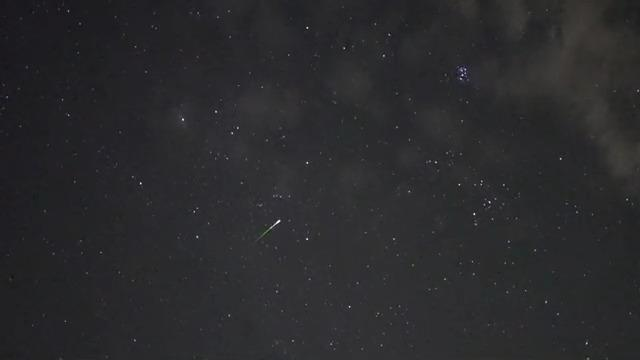meteorite: (237, 213, 296, 248)
